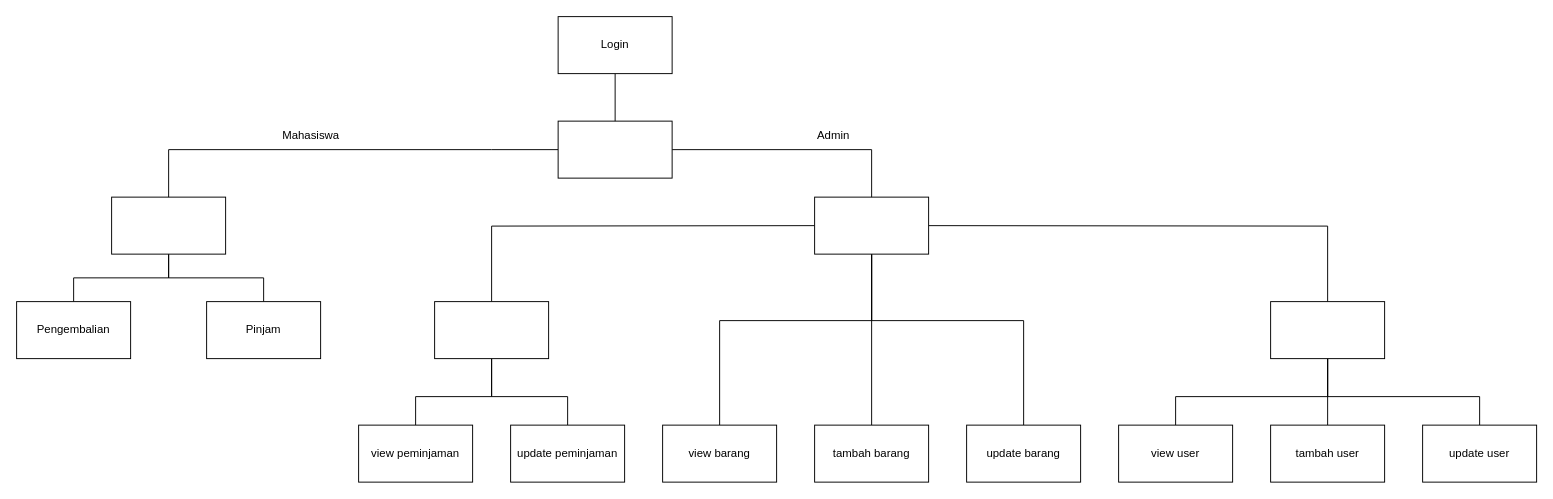
The diagram is 1553 pixels wide and 499 high, and some of its shapes have lost their labels. Here are the shapes that lost their labels. From the top down, the box of each, then its label:
(557, 120, 672, 178): Halaman Utama
(111, 196, 226, 254): Daftar Barang
(814, 196, 929, 254): Barang / Dashboard
(434, 301, 549, 359): Laporan
(1270, 301, 1385, 359): user
